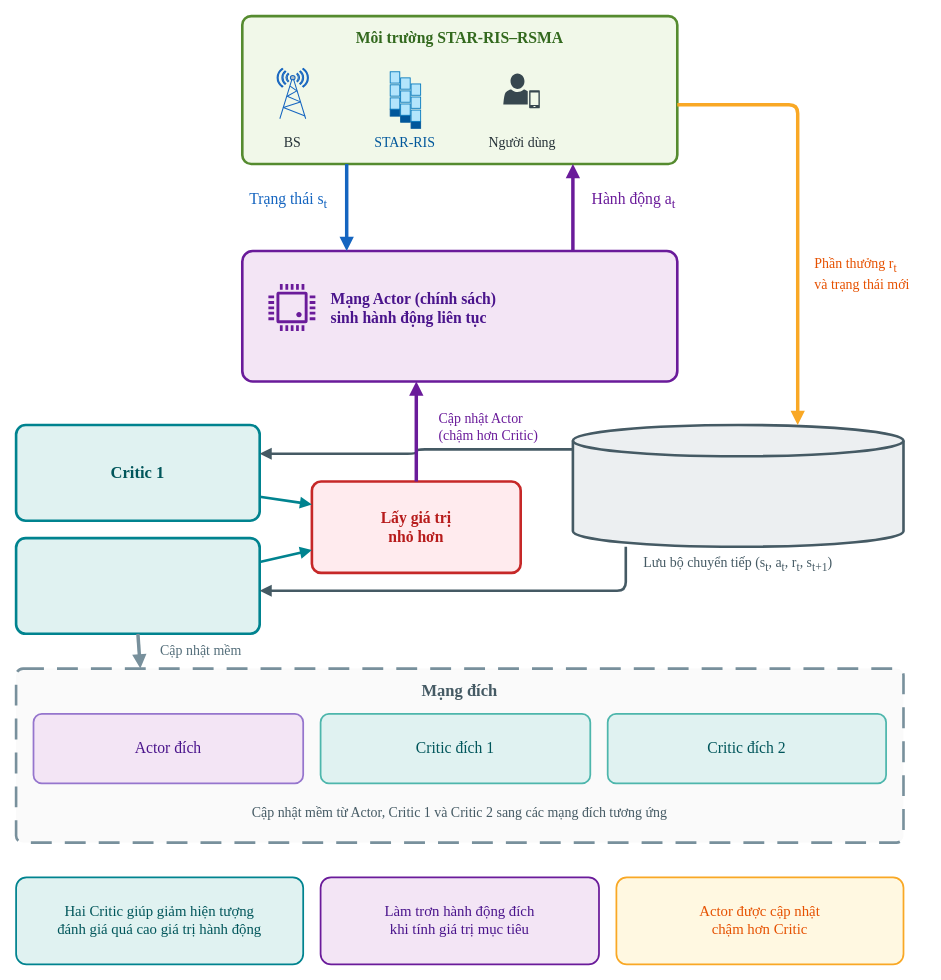
The diagram is 941 pixels wide and 980 high, and some of its shapes have lost their labels. The box of each missing label's shape, as (x1, y1, x2, y2) in pixels:
Critic 2: (14, 536, 261, 635)
Replay Buffer: (571, 423, 904, 548)
